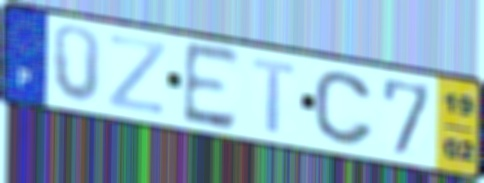0: (50, 23, 103, 106)
7: (378, 76, 433, 157)
C: (312, 68, 378, 149)
E: (181, 39, 242, 134)
T: (250, 54, 298, 137)
Z: (106, 32, 169, 118)
